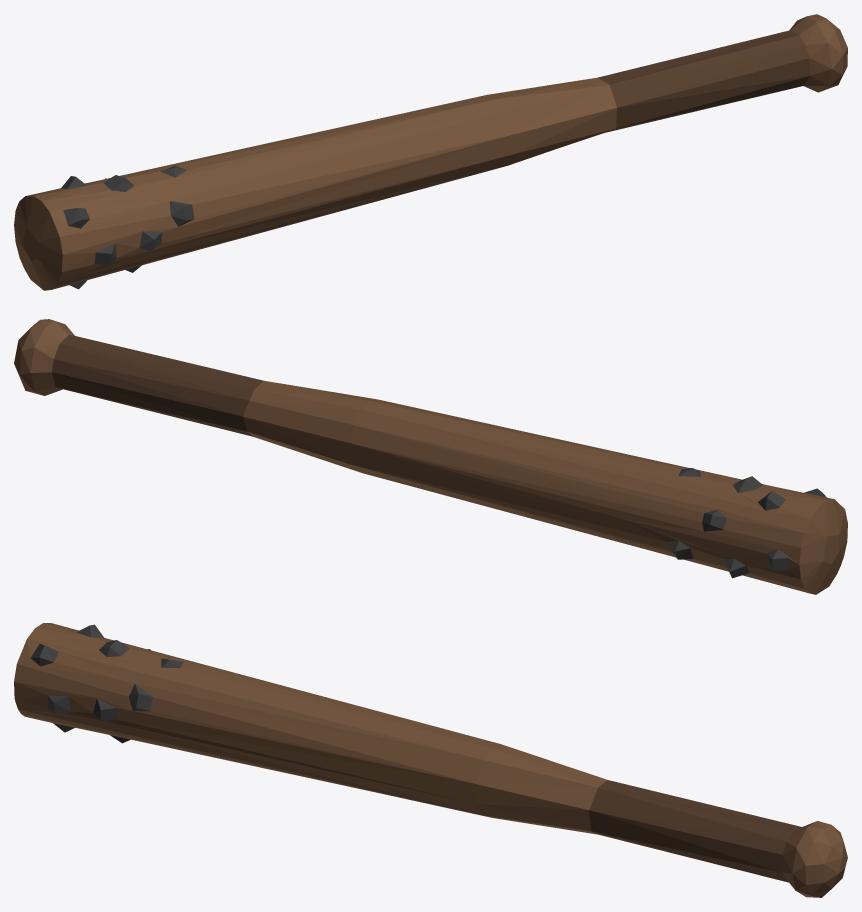
File: Model_MałaPałka.fbx
The picture shows the model from 3 angles, top to bottom: view 1: azimuth 30°, elevation 25°; view 2: azimuth 150°, elevation 25°; view 3: azimuth 330°, elevation 25°; orthographic projection.
Parts seen in each view (by area): view 1: Pałka; view 2: Pałka; view 3: Pałka.
Boxes of the visible parts, left/top/right/bottom form: Pałka: left=14, top=14, right=847, bottom=290; Pałka: left=14, top=319, right=847, bottom=594; Pałka: left=14, top=623, right=847, bottom=897.
Bounding box in the file's own units: 9.87 × 9.5 × 79.94.
